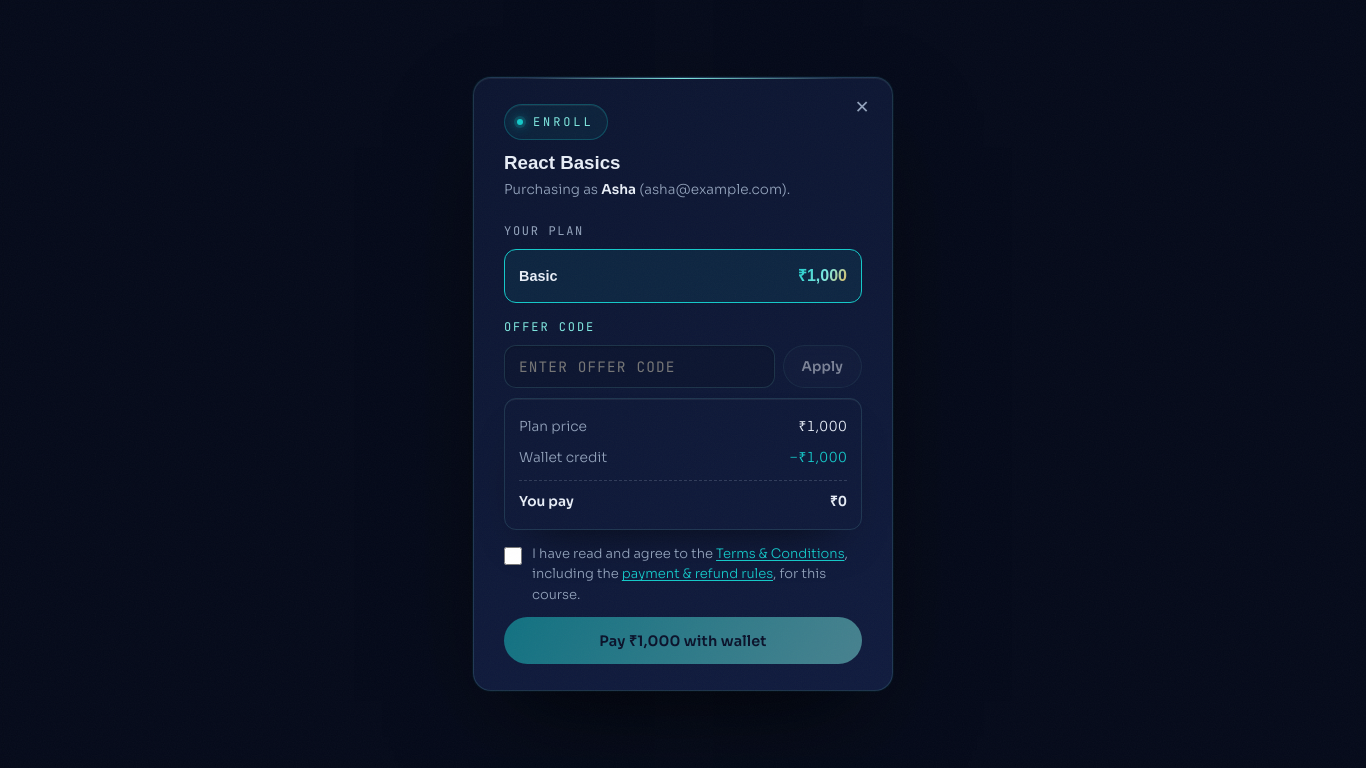
Test: BuyModal with a wallet › shows the server's reason when the wallet payment is refused
The width and height of the screenshot is (1366, 768).
Step 1. Click the checkbox → (513, 556), box x1=504 y1=547 x2=522 y2=565
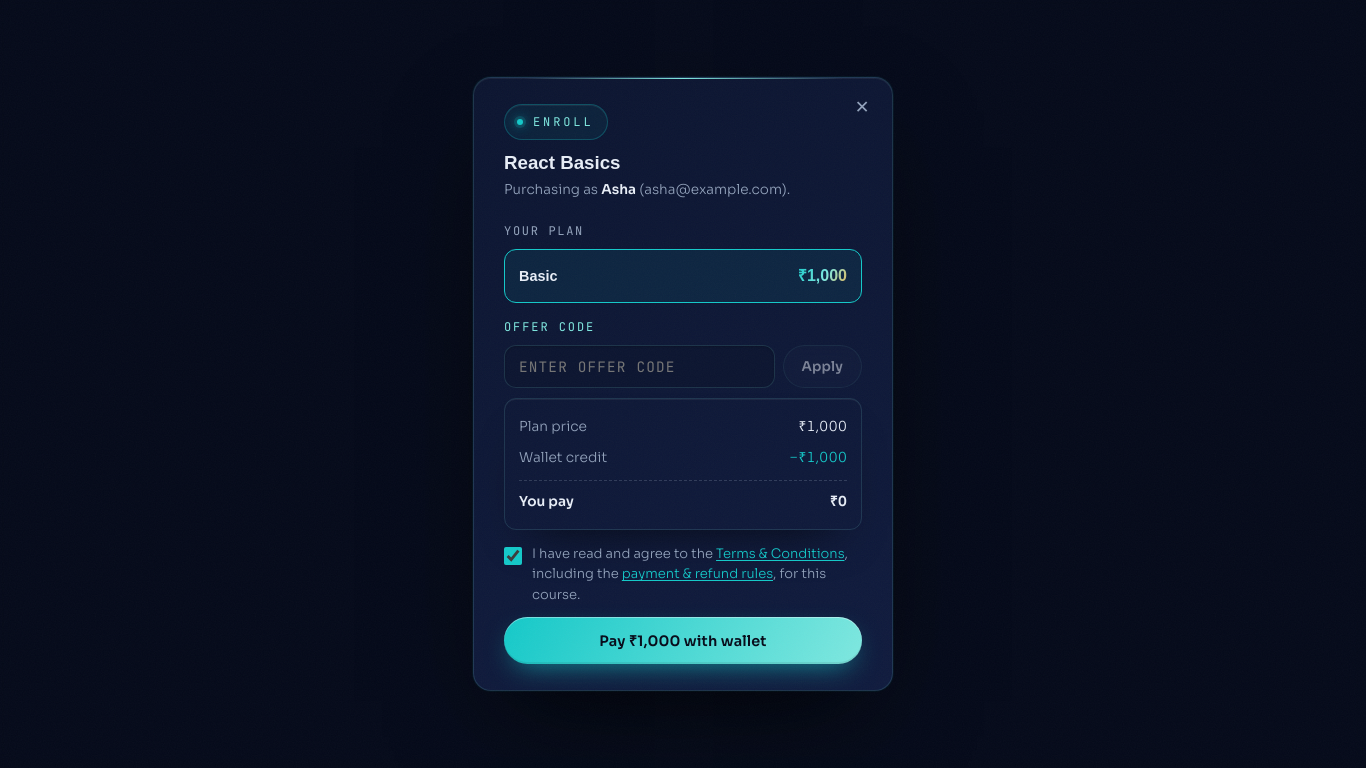
Step 2. Submit the form, box x1=504 y1=221 x2=862 y2=664
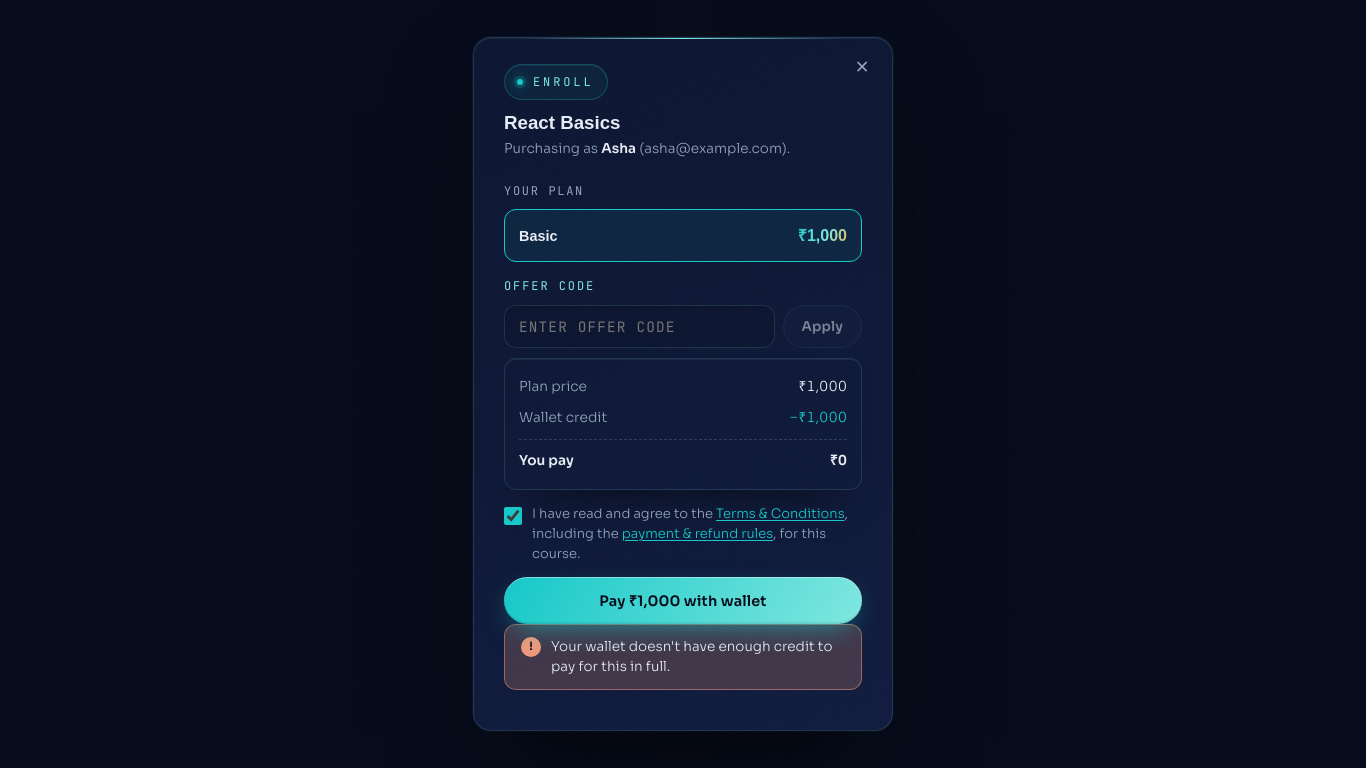
Result: the message with class "alert-error" shows "doesn't have enough credit" at x1=551 y1=638 x2=833 y2=675
